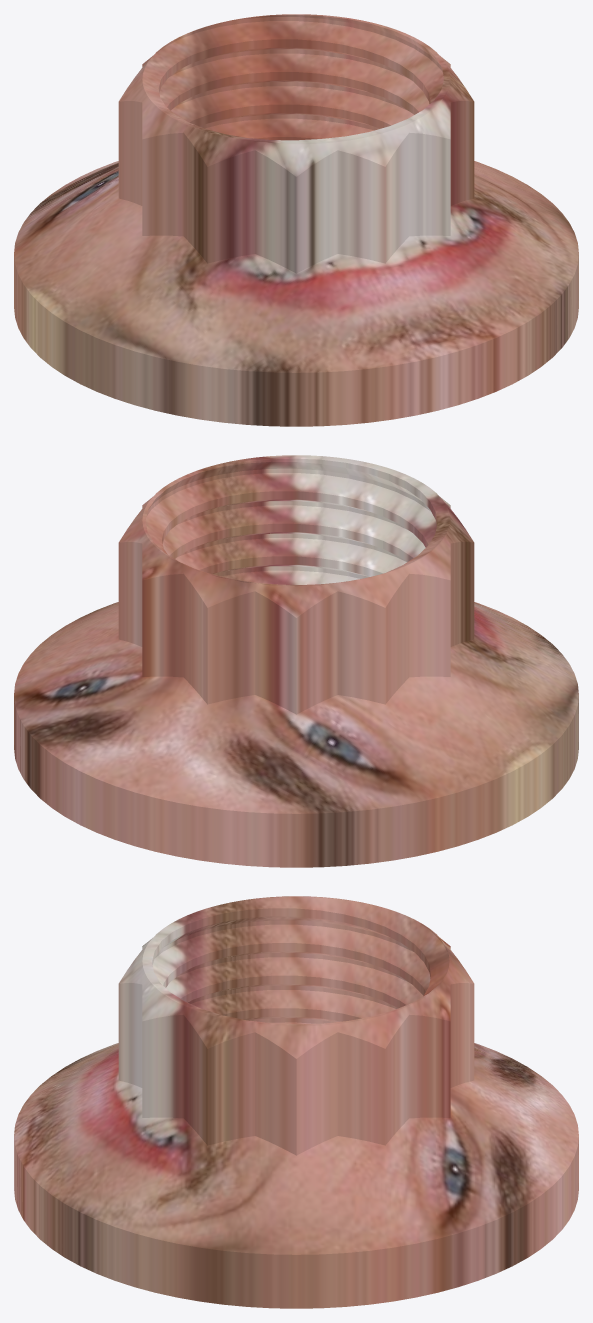
The model's file is kroeger-12-point-nut.glb.
3 views of the same model, one above another, from view 1: azimuth 30°, elevation 25°; view 2: azimuth 150°, elevation 25°; view 3: azimuth 270°, elevation 25° (orthographic).
Visible parts, largest first — view 1: Nut.003; view 2: Nut.003; view 3: Nut.003.
Boxes of the visible parts, left/top/right/bottom form: Nut.003: left=14, top=14, right=578, bottom=426; Nut.003: left=14, top=455, right=578, bottom=867; Nut.003: left=14, top=896, right=578, bottom=1308.
Bounding box in the file's own units: 0.011 × 0.0049 × 0.011.
1 material, 1 textured.
